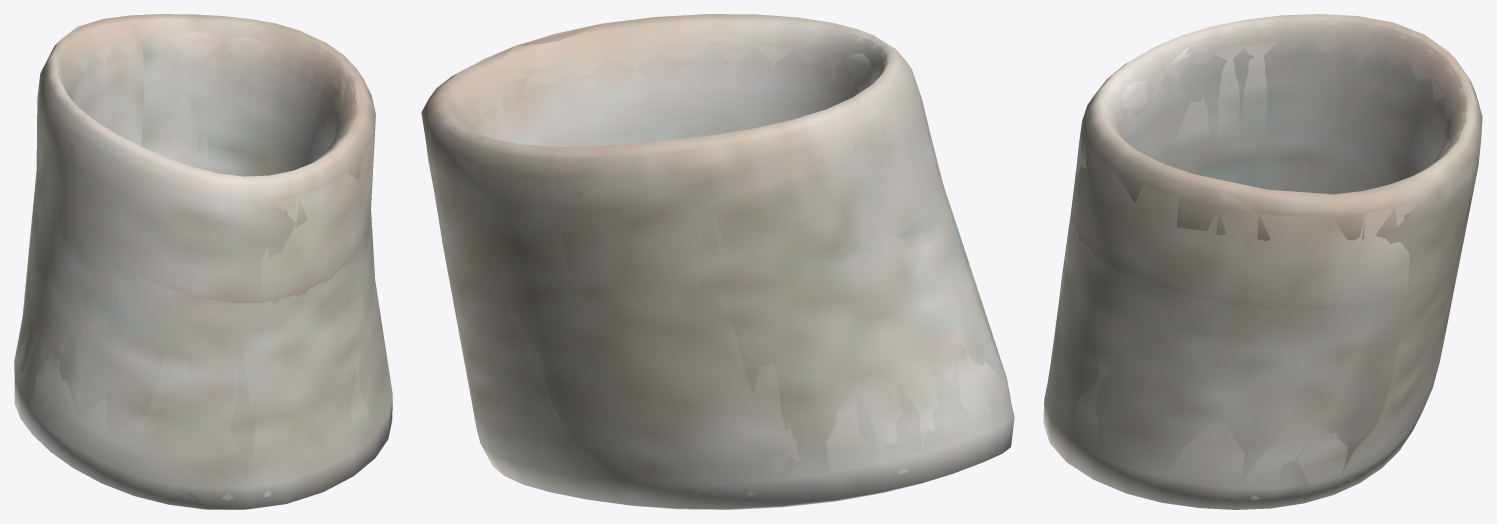
The model's file is L Retinaculum Extensorum.fbx.
The picture shows the model from 3 angles, left to right: view 1: azimuth 30°, elevation 25°; view 2: azimuth 150°, elevation 25°; view 3: azimuth 270°, elevation 25°; orthographic projection. The views are drawn at different scales.
Visible parts, largest first — view 1: L Retinaculum Extensorum, L Retinaculum Extensorum low, L Retinaculum Extensorum high; view 2: L Retinaculum Extensorum, L Retinaculum Extensorum low, L Retinaculum Extensorum high; view 3: L Retinaculum Extensorum low, L Retinaculum Extensorum, L Retinaculum Extensorum high.
Part boxes in pixels (x1,y1,x2,y2): L Retinaculum Extensorum: (14,14,392,509); L Retinaculum Extensorum low: (14,14,392,509); L Retinaculum Extensorum high: (14,18,382,507); L Retinaculum Extensorum: (421,14,1014,509); L Retinaculum Extensorum low: (421,24,1013,509); L Retinaculum Extensorum high: (425,19,1010,496); L Retinaculum Extensorum low: (1043,41,1482,507); L Retinaculum Extensorum: (1043,14,1481,509); L Retinaculum Extensorum high: (1048,18,1474,500).
Size of the model in its own units: 1.7 by 1.53 by 1.65.
1 material, 1 textured.
